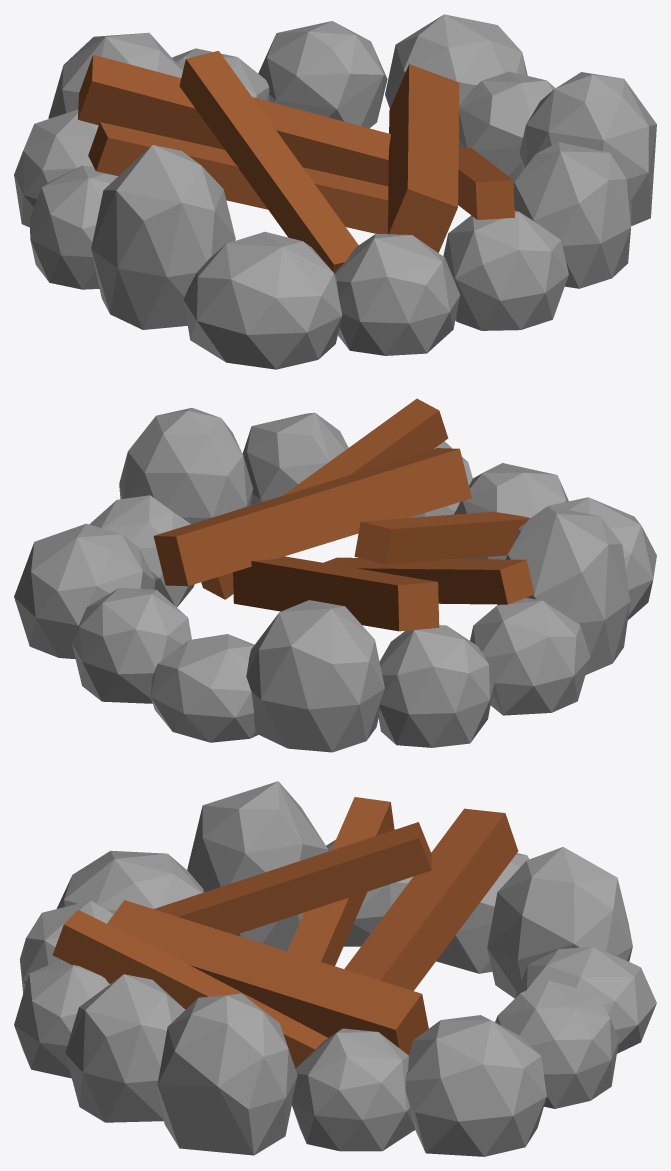
Rendered from opcfcbsXGy.glb.
3 views of the same model, one above another, from view 1: azimuth 30°, elevation 25°; view 2: azimuth 150°, elevation 25°; view 3: azimuth 270°, elevation 25° (orthographic). The views are drawn at different scales.
Parts seen in each view (by area): view 1: FirePit1; view 2: FirePit1; view 3: FirePit1.
Boxes of the visible parts, x1,y1,x2,y2 form: FirePit1: (14,14,656,369); FirePit1: (14,398,656,752); FirePit1: (14,781,656,1156).
Bounding box in the file's own units: 0.9401 × 0.2904 × 0.9569.
